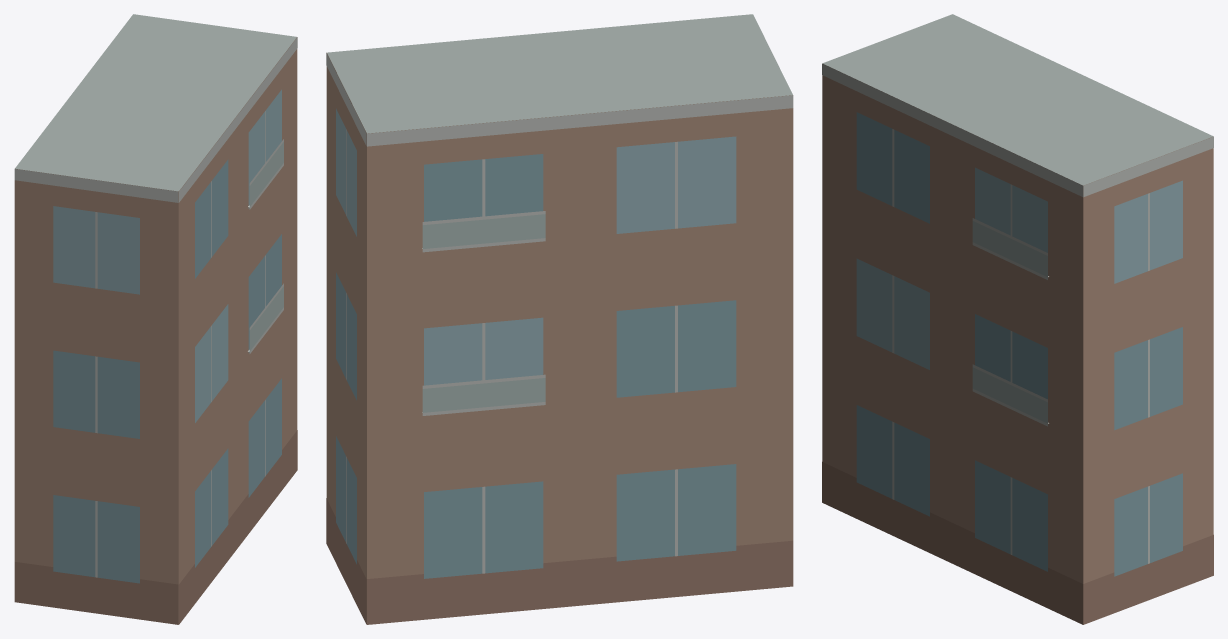
The model's file is survey-upis-32756124.glb.
3 views of the same model, side by side, from view 1: azimuth 30°, elevation 25°; view 2: azimuth 150°, elevation 25°; view 3: azimuth 270°, elevation 25° (orthographic). The views are drawn at different scales.
Parts seen in each view (by area): view 1: survey-upis-32756124.tmp; view 2: survey-upis-32756124.tmp; view 3: survey-upis-32756124.tmp.
Boxes of the visible parts, <box> form: survey-upis-32756124.tmp: <box>14,14,297,624</box>; survey-upis-32756124.tmp: <box>326,14,793,624</box>; survey-upis-32756124.tmp: <box>822,14,1213,624</box>.
Bounding box in the file's own units: 7.68 × 9.15 × 7.4.
